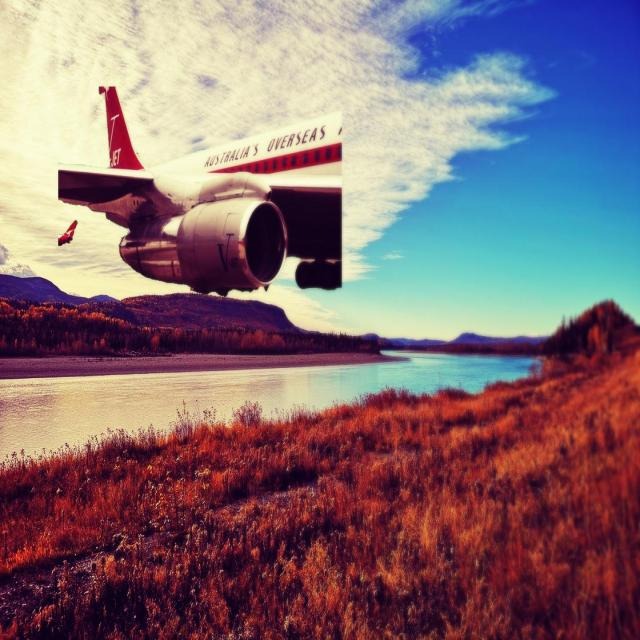airplane: (57, 84, 343, 296)
